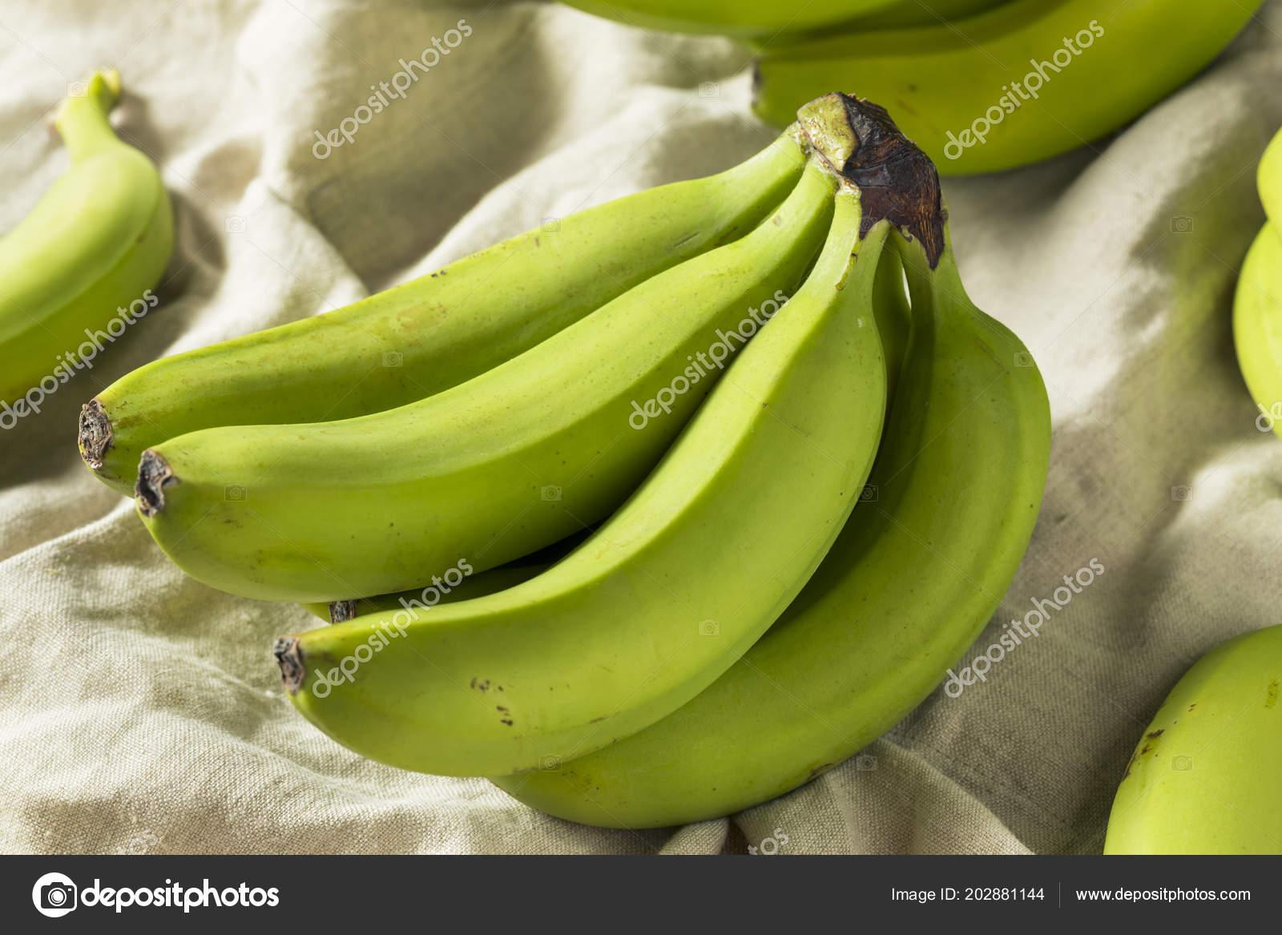Banana Unripe: (48, 88, 1100, 828)
